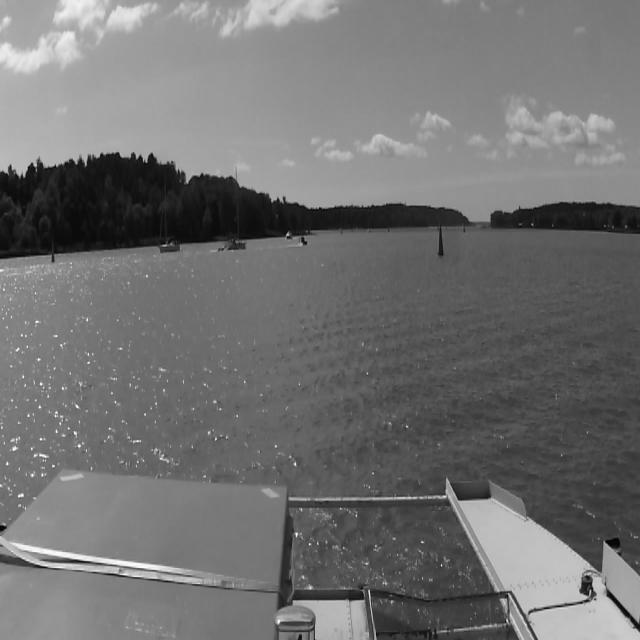buoy: (438, 223, 444, 257), (51, 244, 55, 263)
ship: (224, 165, 248, 250), (160, 170, 180, 252), (298, 236, 308, 247), (286, 230, 292, 240), (217, 246, 225, 252)
